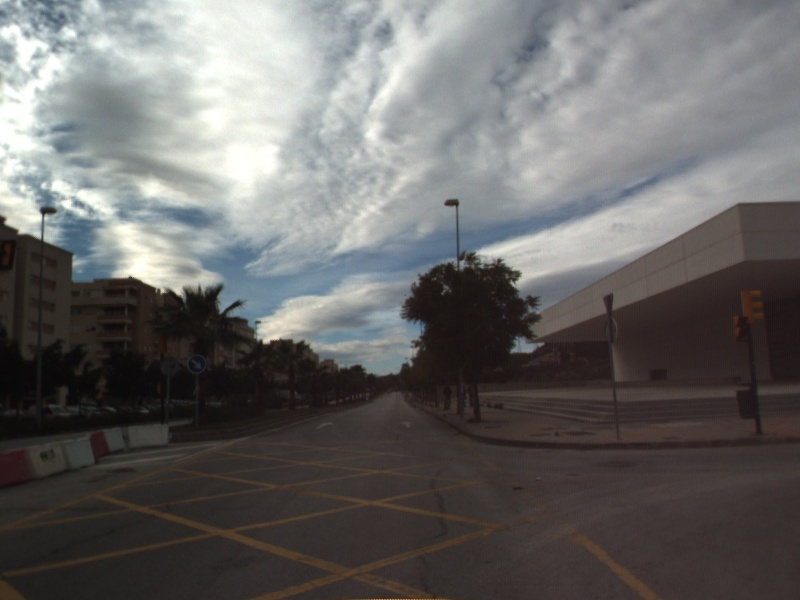STRAIGHT: (315, 419, 336, 431), (398, 418, 417, 430)
